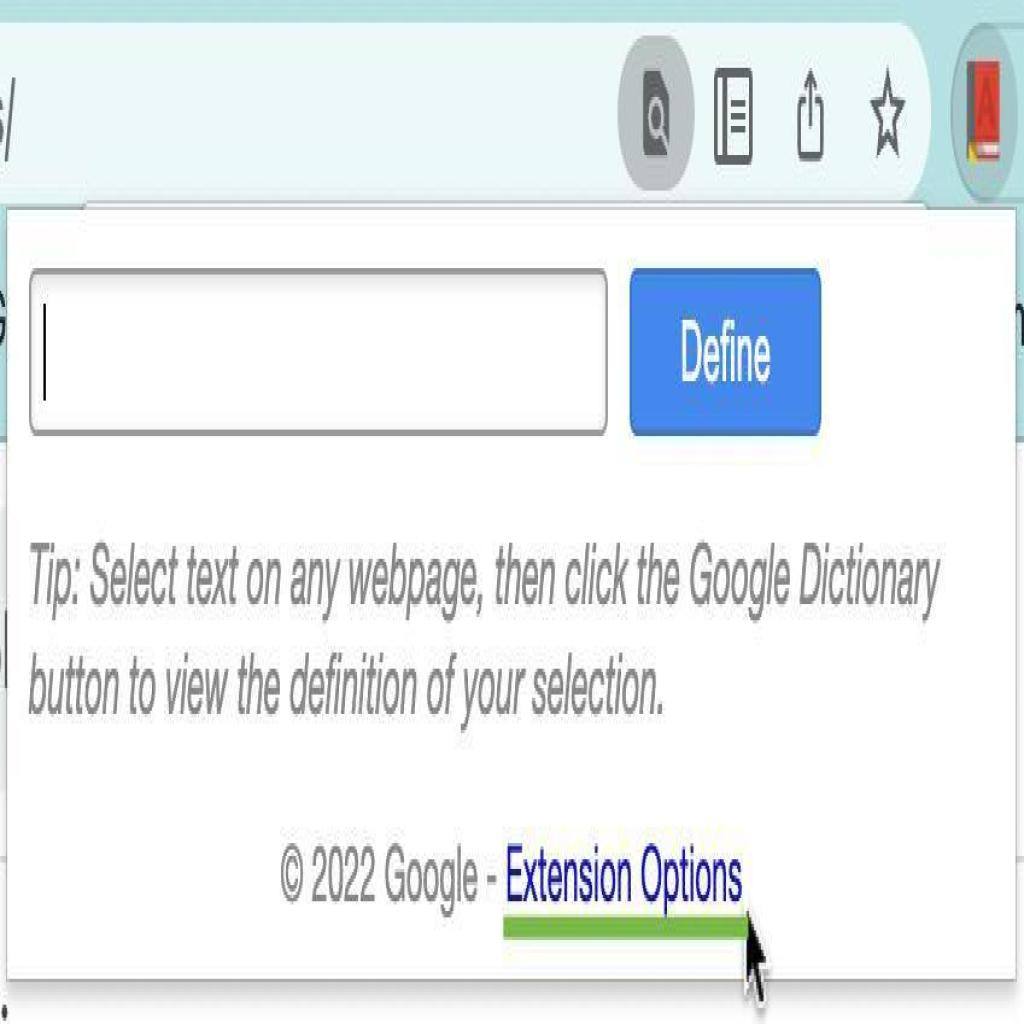button: (631, 268, 824, 433)
icon: (789, 45, 838, 181), (703, 61, 759, 178), (962, 55, 1004, 168), (866, 58, 907, 162), (638, 58, 675, 165)
input: (31, 268, 607, 433)
